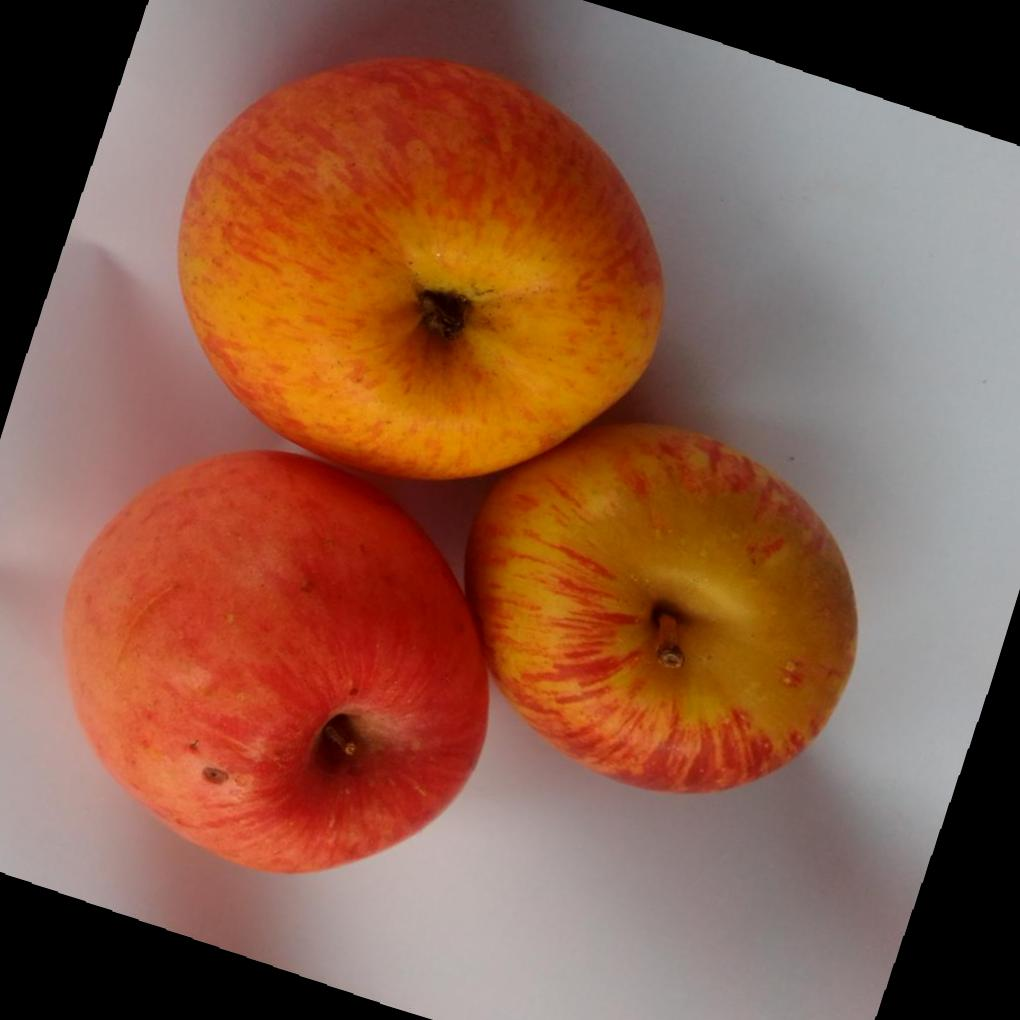FreshGuava: (61, 50, 858, 872)
